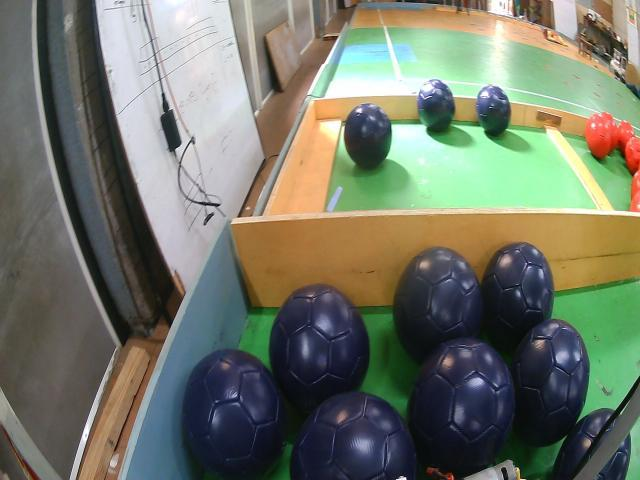kaalyya: (408, 338, 515, 475), (182, 348, 288, 478), (270, 283, 370, 412), (290, 392, 416, 480), (392, 247, 482, 362), (510, 318, 590, 447), (481, 242, 554, 352), (551, 408, 614, 480), (344, 103, 391, 168), (418, 78, 455, 132), (476, 85, 511, 137), (595, 435, 631, 480)
